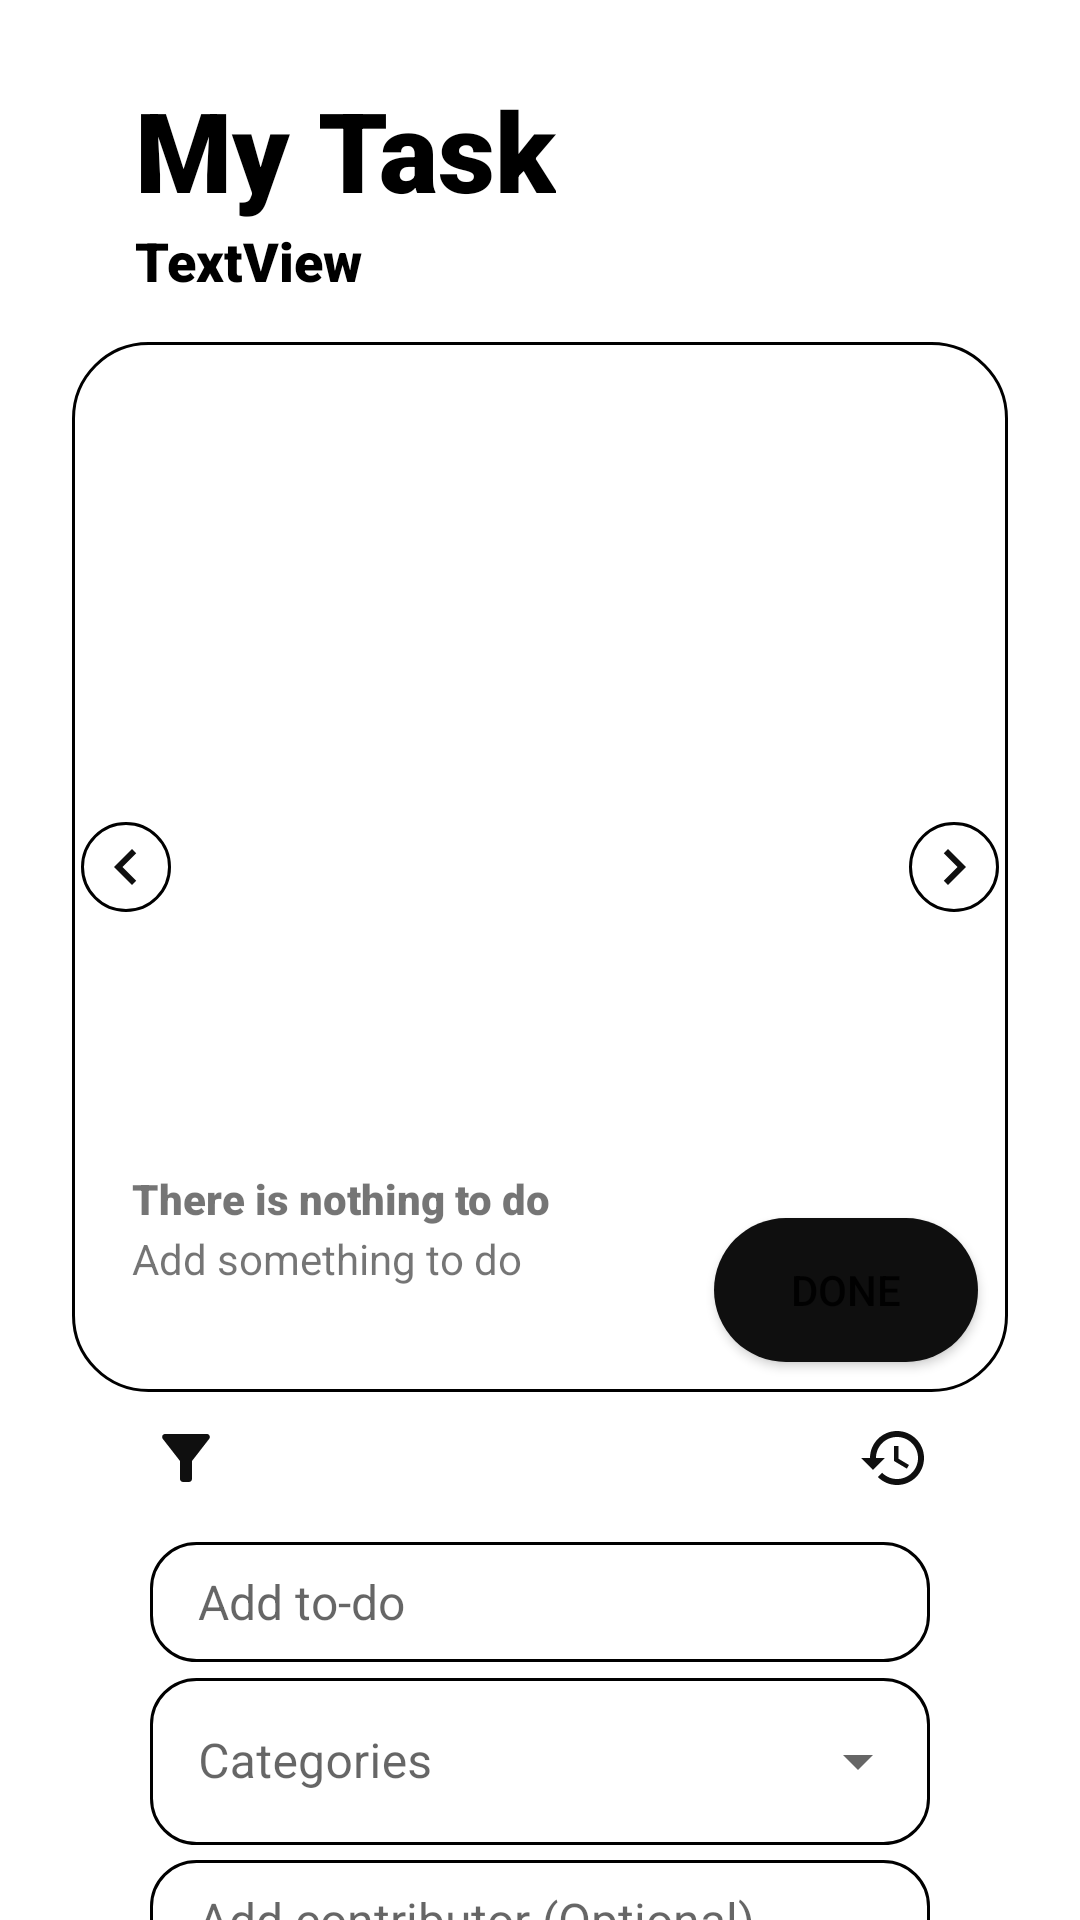

Locate icon controls on the screen. Image size 1080*1920, boxes as (x1, y1, x2, y2).
filter: (162, 1434, 210, 1482)
history: (861, 1431, 924, 1485)
